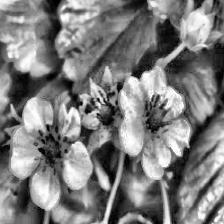Blossom Blight: (29, 124, 72, 176), (139, 92, 175, 142), (92, 92, 120, 130)
